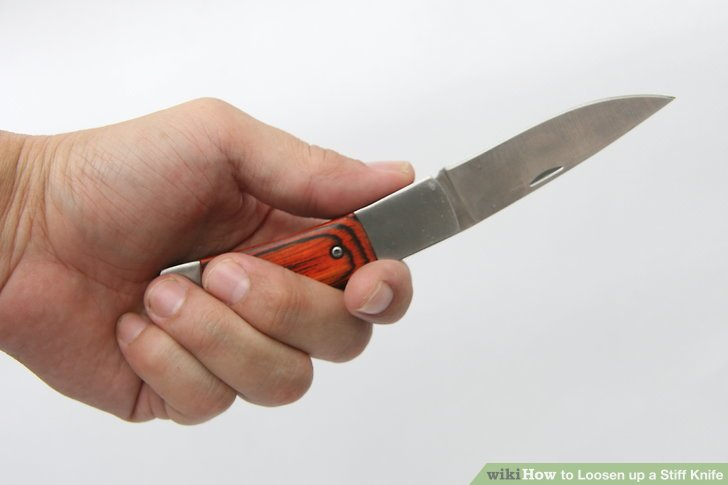knife: (108, 85, 689, 372)
